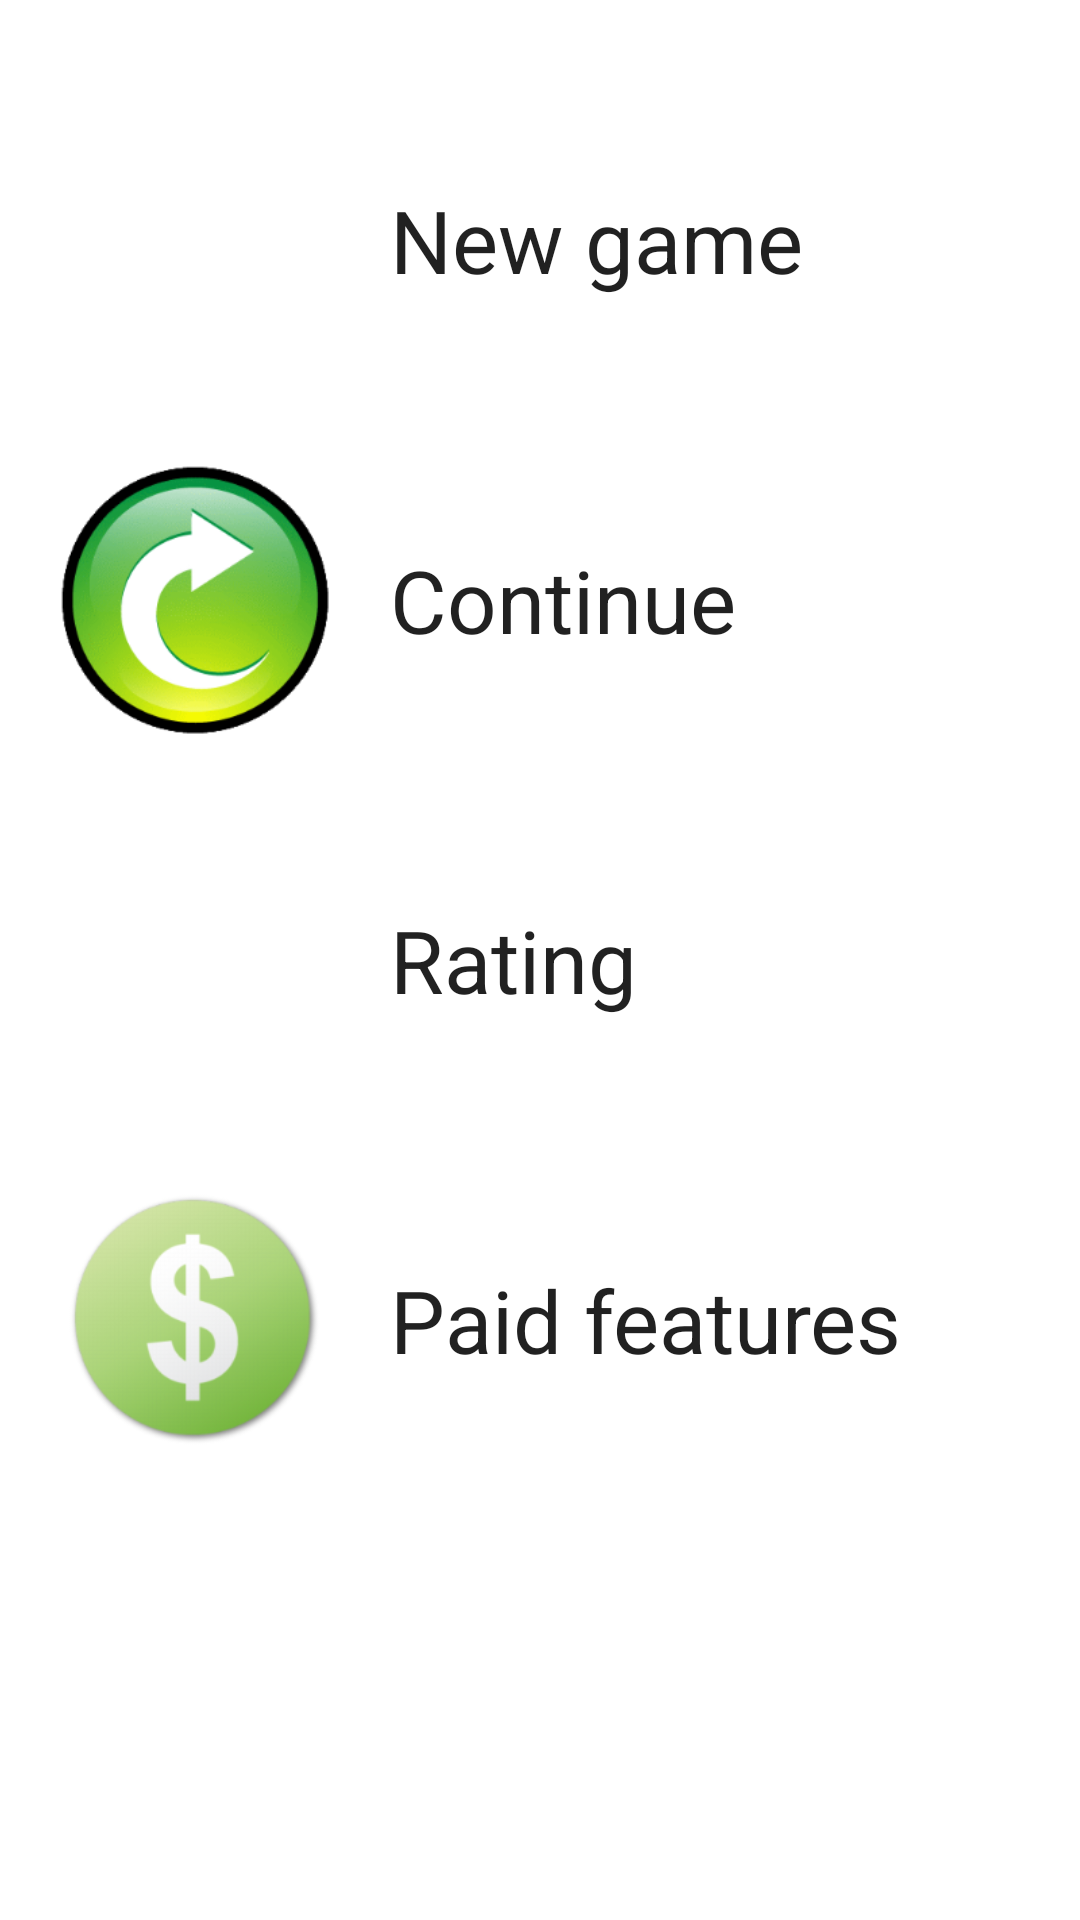

Where to tap for icons on this 1080px×1920px app screen, as (x=x, y=y):
dollar: (x=194, y=1319)
load: (x=195, y=600)
